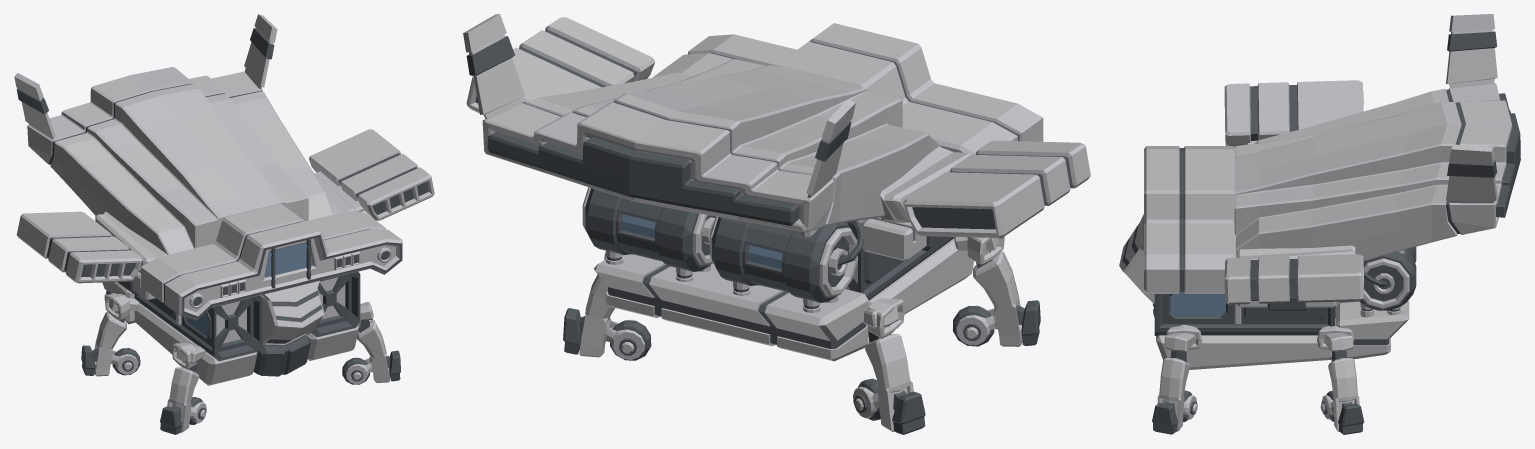
The model's file is Dropship_01_Neutral.fbx.
The picture shows the model from 3 angles, left to right: view 1: azimuth 30°, elevation 25°; view 2: azimuth 150°, elevation 25°; view 3: azimuth 270°, elevation 25°; orthographic projection. The views are drawn at different scales.
Parts seen in each view (by area): view 1: Dropship_01_Neutral; view 2: Dropship_01_Neutral; view 3: Dropship_01_Neutral.
Part boxes in pixels (x1=…): Dropship_01_Neutral: x1=14, y1=14, x2=434, y2=434; Dropship_01_Neutral: x1=463, y1=14, x2=1090, y2=434; Dropship_01_Neutral: x1=1119, y1=14, x2=1520, y2=434.
Bounding box in the file's own units: 1915 × 1326 × 1633.
Materials: 3 (3 with a texture image).
